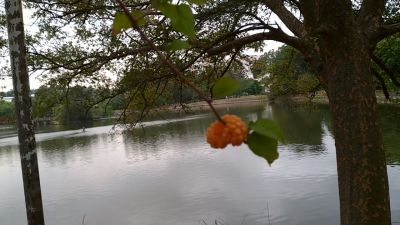eggs: (204, 113, 250, 153)
